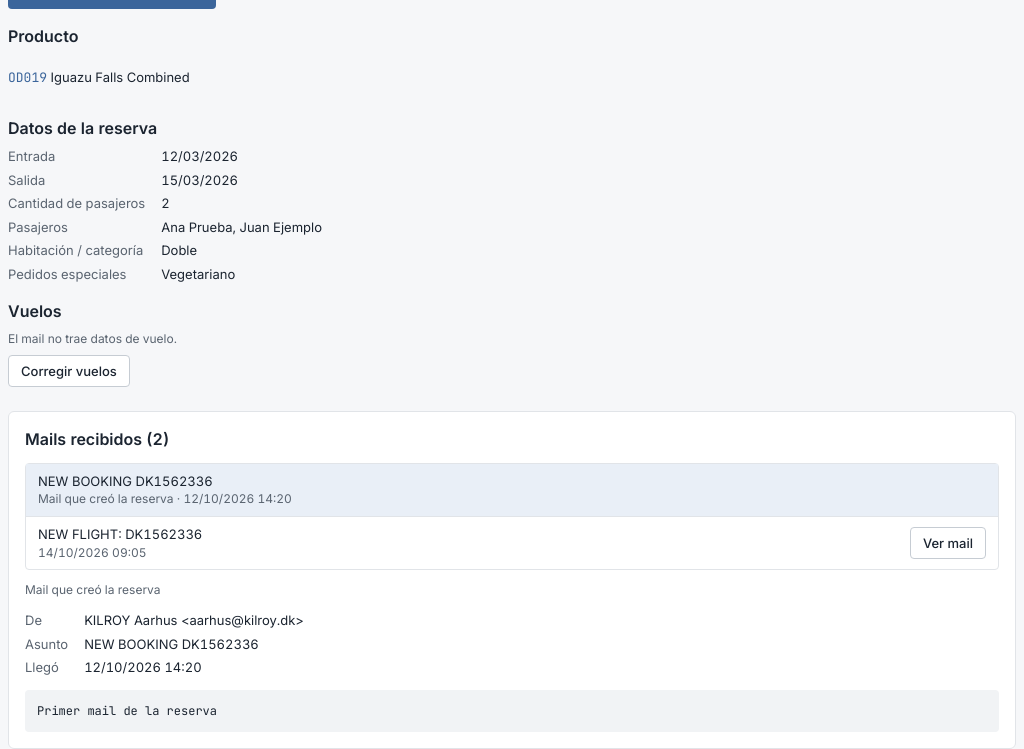
Test: detalle: el mail original (#11, #12, #13) › dos mails: en orden de llegada, el primero abierto y el otro con Ver mail
(page scrolled)
Expected: the number of list items is 2, [26,464,998,516]; [26,516,998,569]
Expected: the list item that starts with "NEW BOOKING DK1562336" shows "Mail que creó la reserva", [38,491,183,506]
Click the button "Ver mail".
click(948, 543)  # box [910,527,986,559]
(page scrolled)
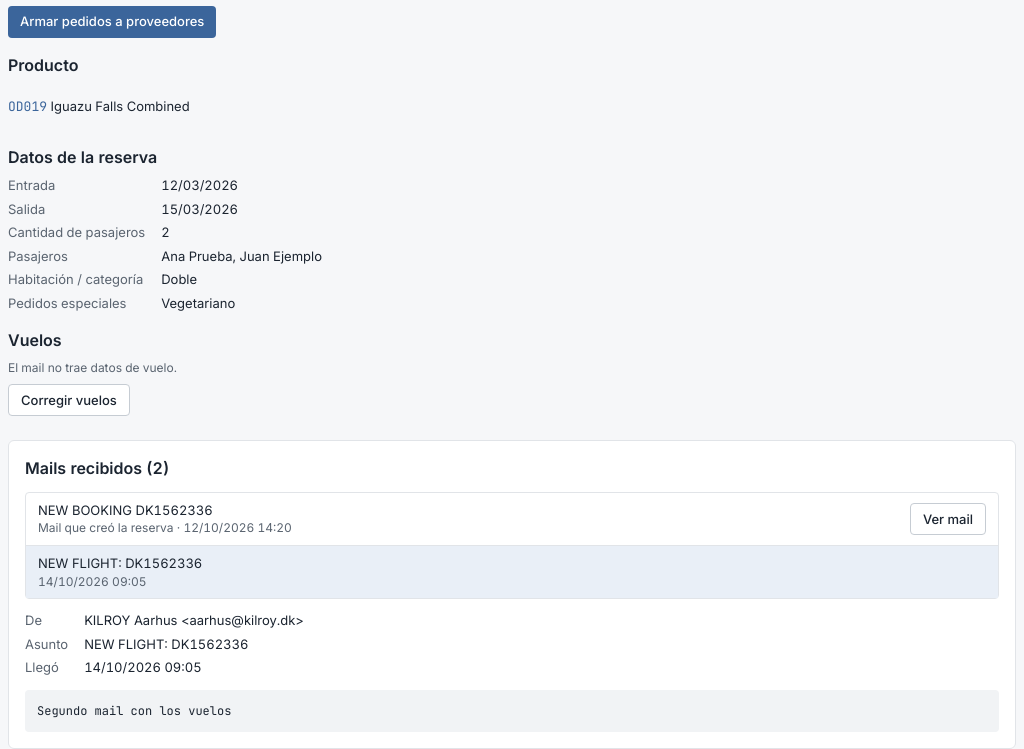
Expected: the text with test id "cuerpo-mail" reads "Segundo mail con los vuelos", [37,703,231,719]
